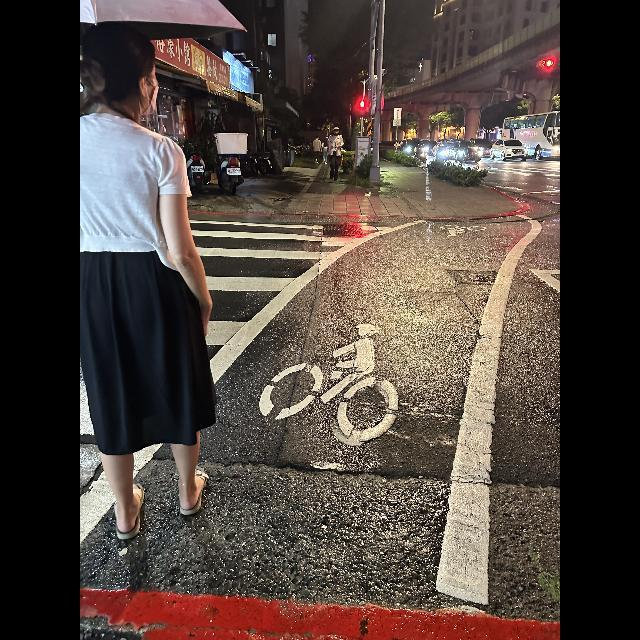sidewalk: (80, 217, 425, 526)
